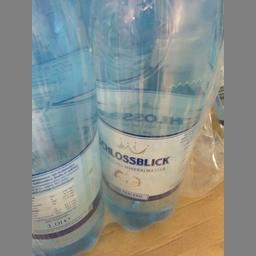water: (86, 0, 220, 229), (31, 0, 105, 255)
